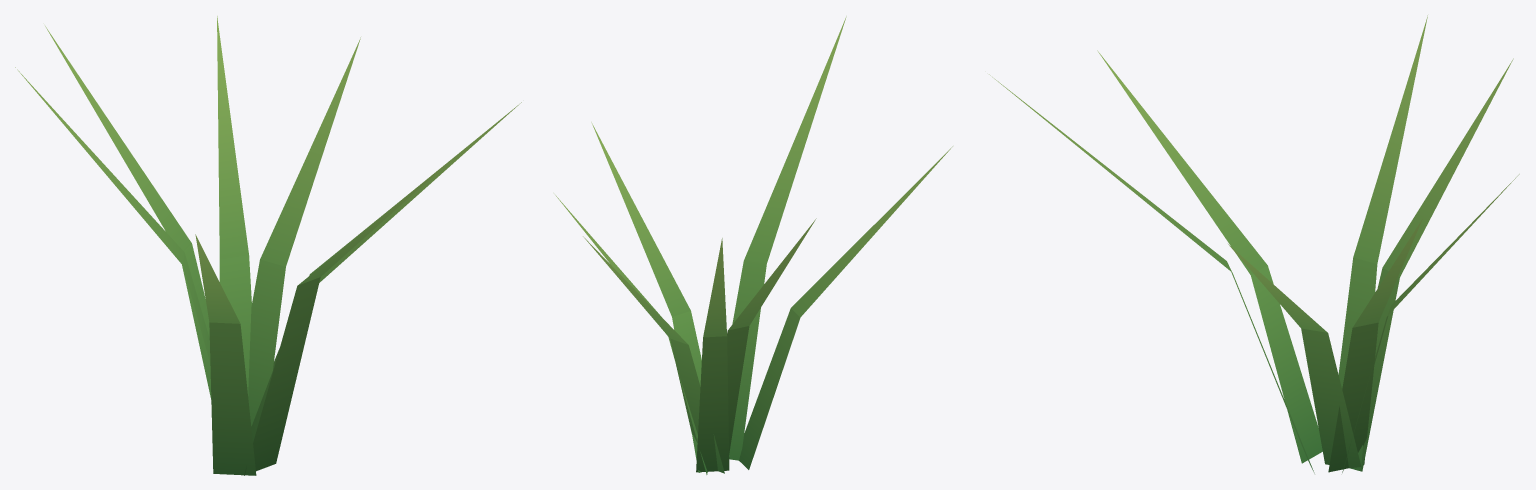
File: env_grass_tuft_low.glb
3 views of the same model, side by side, from view 1: azimuth 30°, elevation 25°; view 2: azimuth 150°, elevation 25°; view 3: azimuth 270°, elevation 25° (orthographic). The views are drawn at different scales.
Parts seen in each view (by area): view 1: env_grass_tuft_low; view 2: env_grass_tuft_low; view 3: env_grass_tuft_low.
Part boxes in pixels (x1,y1,x2,y2): env_grass_tuft_low: [15, 16, 521, 475]; env_grass_tuft_low: [555, 16, 952, 474]; env_grass_tuft_low: [989, 15, 1519, 473].
Size of the model in its own units: 0.5809 by 0.6083 by 0.7306.
